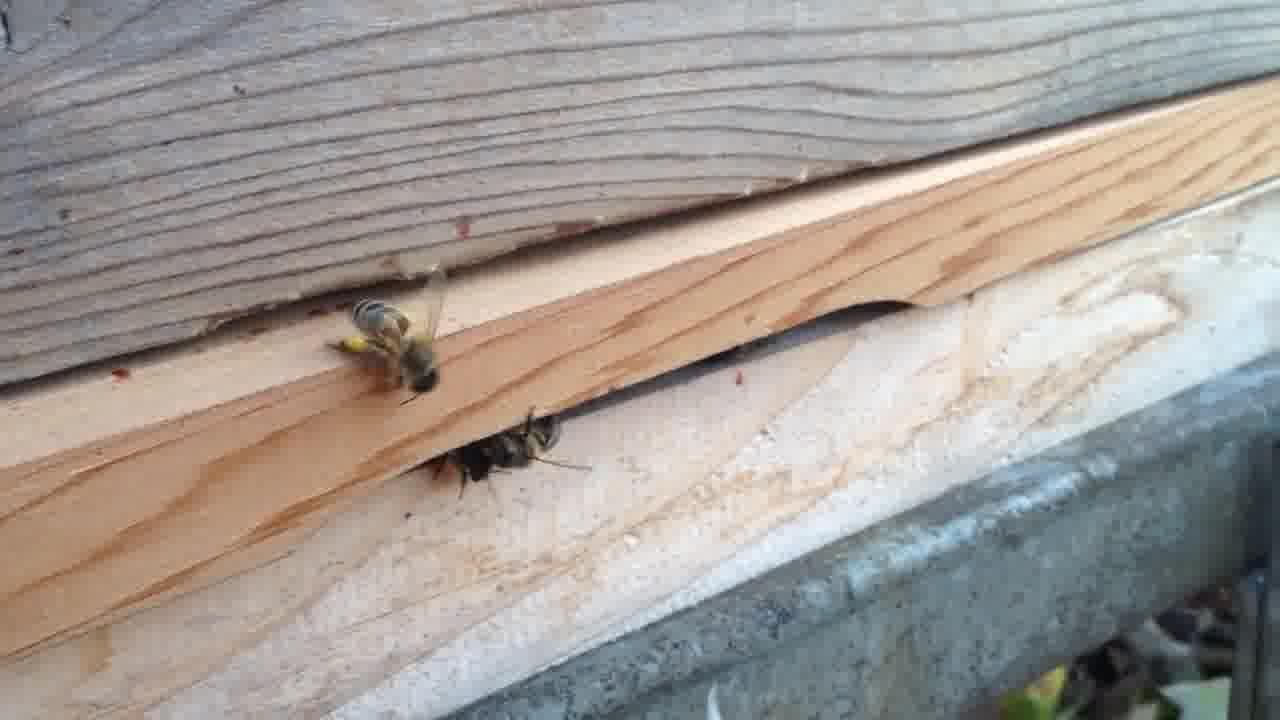pollen: (315, 298, 449, 405)
